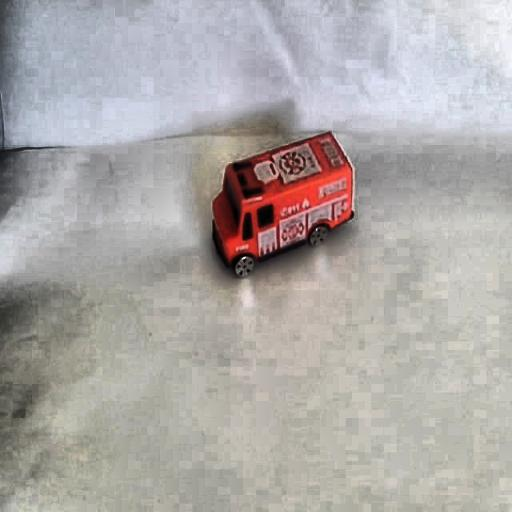fire_truck: (204, 128, 358, 283), (211, 190, 236, 261)
